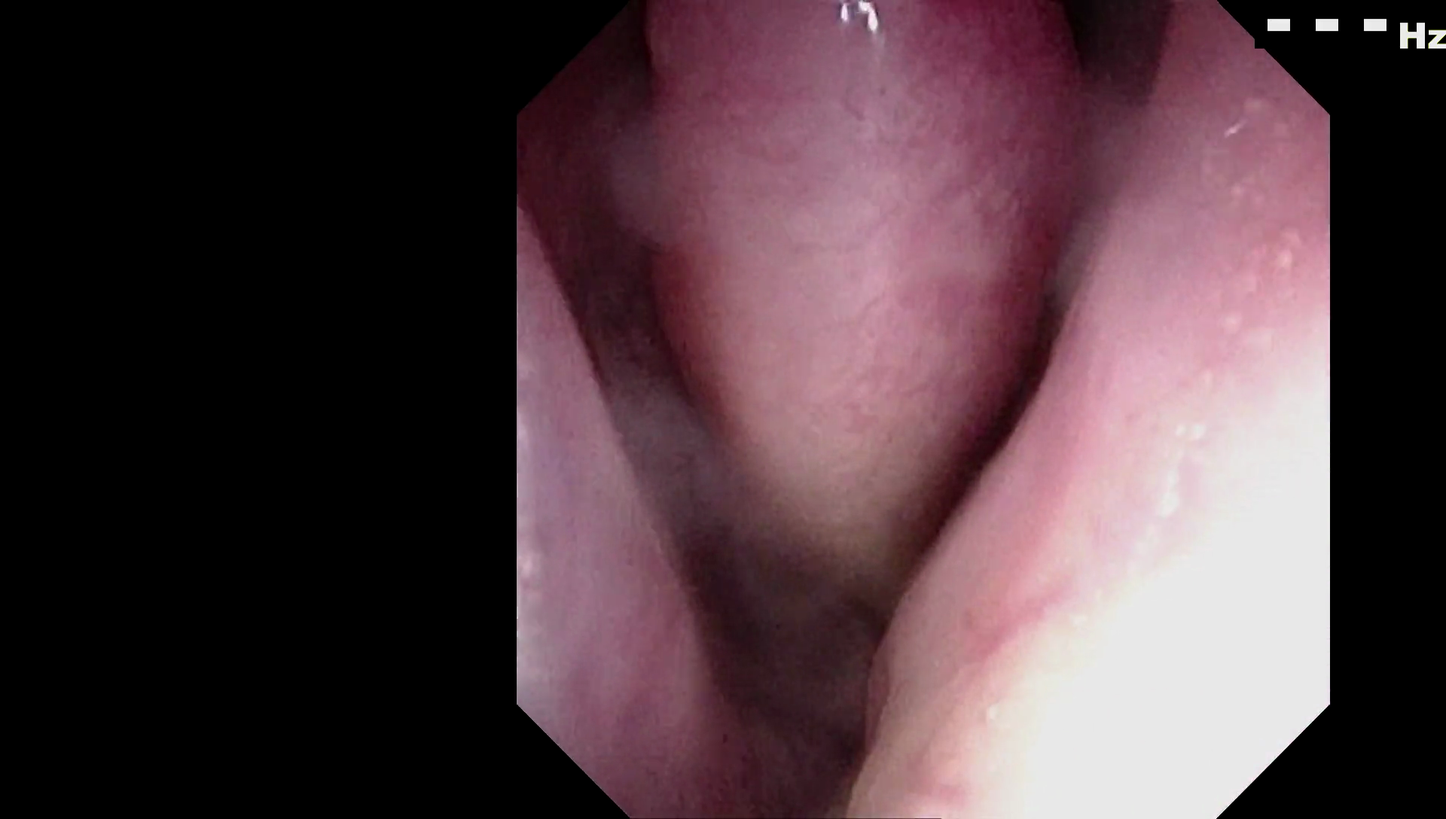close_wall: (934, 398, 1269, 762)
next: (633, 497, 898, 819), (858, 293, 1081, 620), (1010, 0, 1160, 114)
